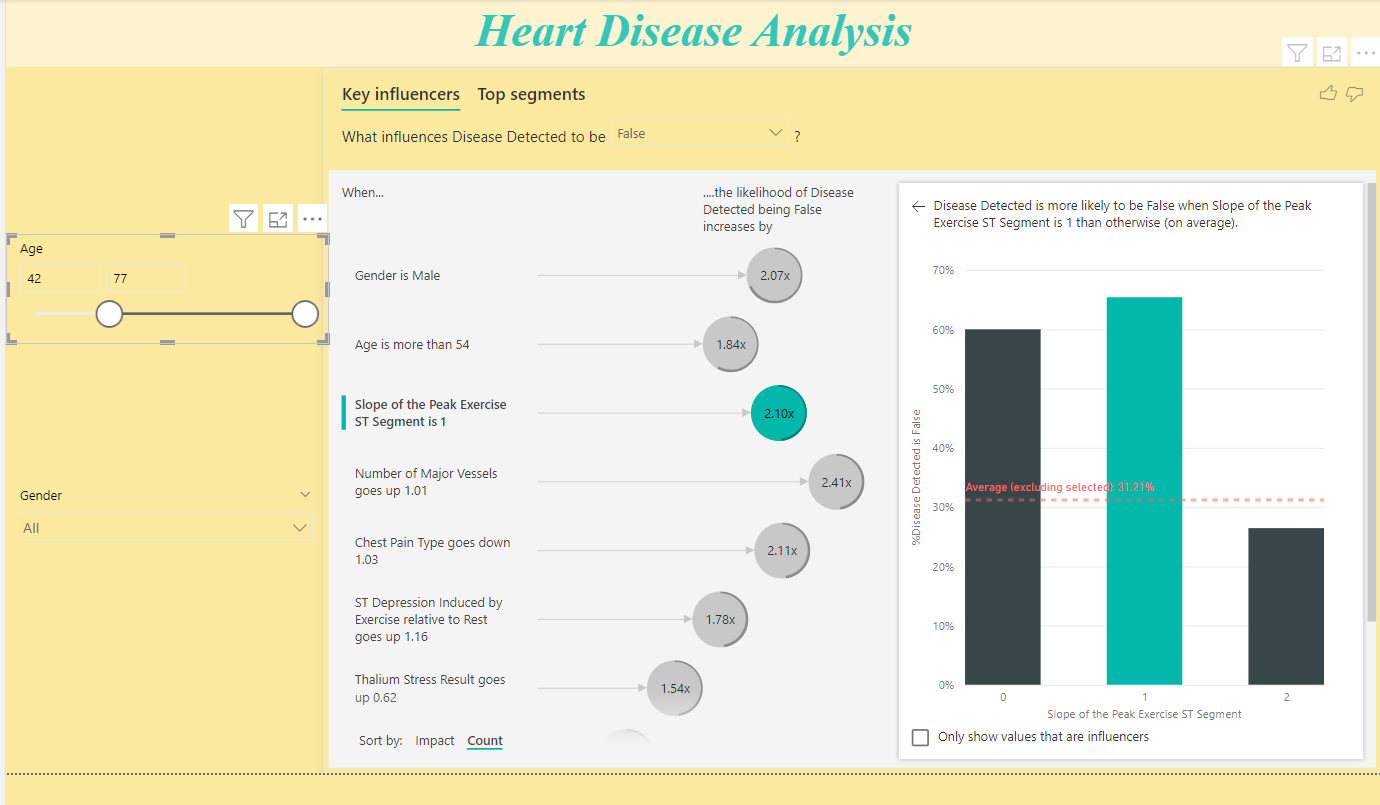

The dashboard page shown, as its layout file describes it:
{"tool":"powerbi","page":{"name":"Page 1","canvas":[1280,720],"ordinal":0},"visuals":[{"type":"keyDriversVisual","fields":{"Target":["Heart disease.Disease Detected"],"ExplainBy":["Sum(Heart disease.Age)","Heart disease.Gender","Sum(Heart disease.Chest Pain Type)","Sum(Heart disease.Maximum Heart Rate Achieved)","Heart disease.Fasting Blood Sugar Level greater than Normal","Sum(Heart disease.Resting Electrocardiographic Results)","Sum(Heart disease.Resting Blood Pressure)","Sum(Heart disease.Serum Cholesterol Level)","Heart disease.Exercise Induced Angina","Sum(Heart disease.Number of Major Vessels)","Sum(Heart disease.Slope of the Peak Exercise ST Segment)","Sum(Heart disease.ST Depression Induced by Exercise relative to Rest)"]},"box":[295.8,63.6,984,656.4],"z":0},{"type":"slicer","fields":{"Values":["Heart disease.Age"]},"box":[0,218.8,299.5,102.7],"z":1000},{"type":"slicer","fields":{"Values":["Heart disease.Gender"]},"box":[0,448.6,295.8,86.8],"z":2000},{"type":"textbox","box":[0,0,1279.9,63.6],"z":3000}]}

Visuals, with their boxes on the page's 1280x720 design canvas (x1, y1, x2, y2). These are canvas units, not pixel positions in the 1380x805 screenshot, which may show the page scaled, cropped or inside an application window:
keyDriversVisual - Heart disease.Disease Detected x Sum(Heart disease.Age): crop(296, 64, 1280, 720)
slicer - Heart disease.Age: crop(0, 219, 300, 322)
slicer - Heart disease.Gender: crop(0, 449, 296, 535)
textbox: crop(0, 0, 1280, 64)
